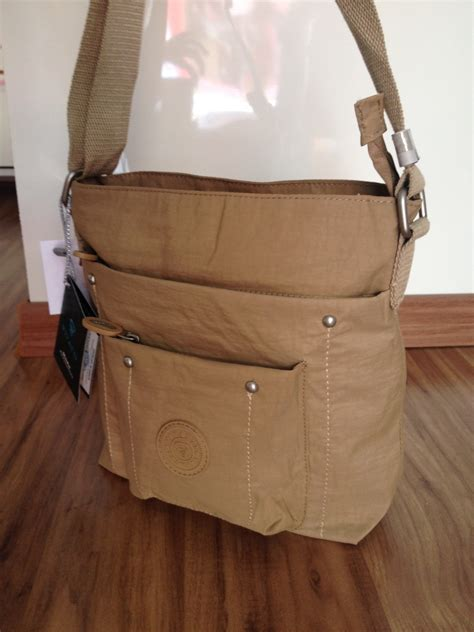nylon: (62, 168, 415, 547)
